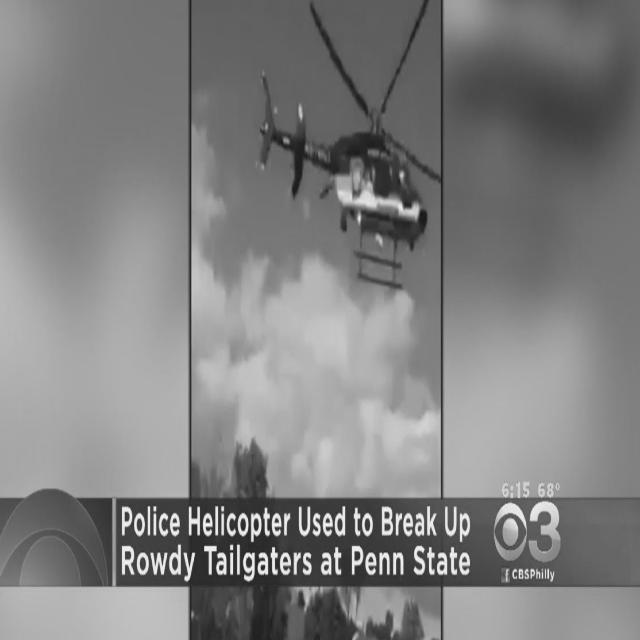helicopter: (250, 1, 438, 291)
